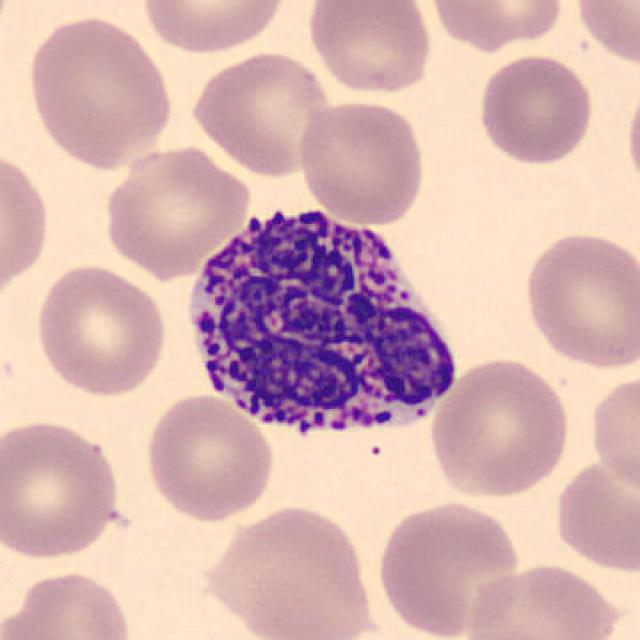Basophil: (174, 194, 471, 462)
RBC: (195, 501, 378, 638), (21, 11, 176, 171), (427, 352, 574, 500), (374, 497, 526, 640), (100, 143, 254, 280), (30, 259, 171, 399), (187, 48, 336, 178), (141, 389, 279, 524), (0, 416, 124, 562), (295, 97, 429, 227), (519, 227, 638, 372), (475, 51, 597, 168), (460, 559, 628, 640), (304, 0, 436, 99), (550, 453, 638, 575), (2, 567, 137, 640), (0, 141, 55, 309), (137, 0, 290, 56), (425, 0, 569, 51), (587, 366, 638, 501), (570, 0, 640, 70), (624, 74, 640, 201)
